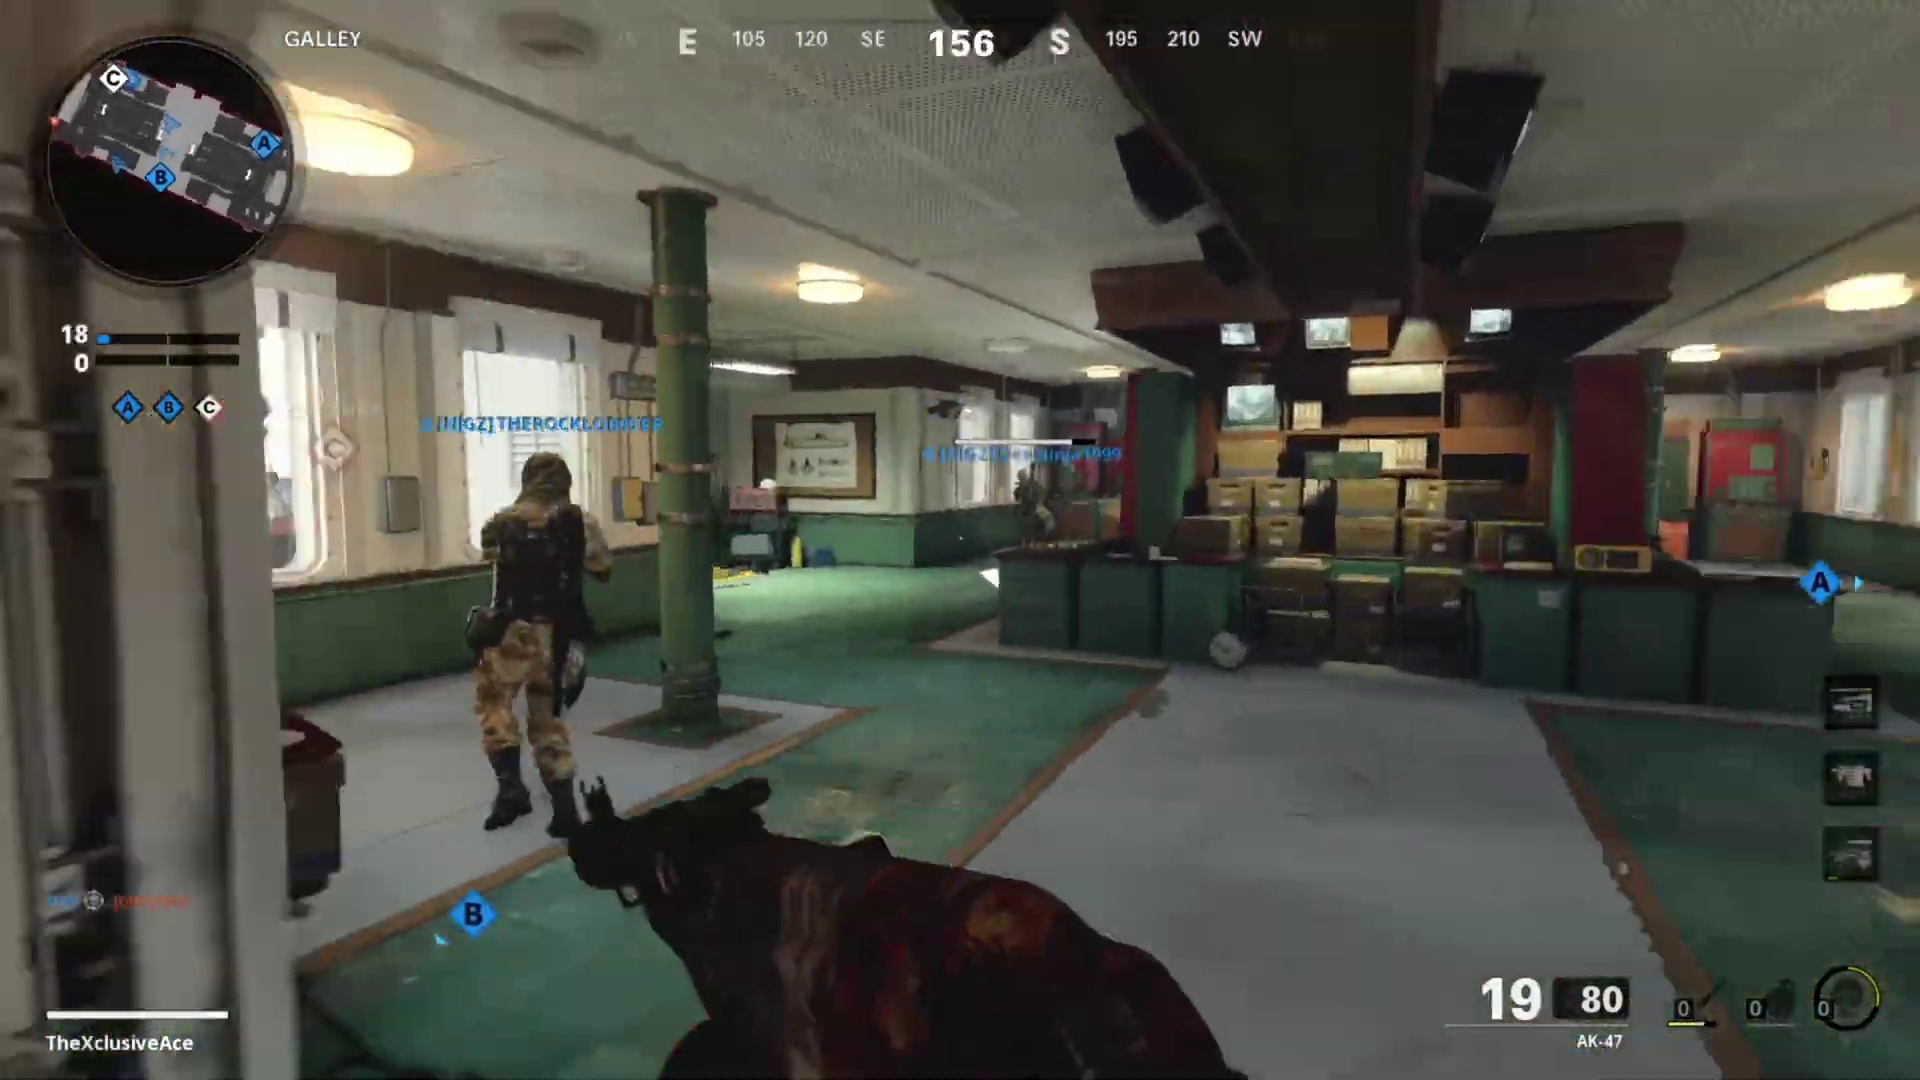head: (511, 454, 574, 514), (1011, 464, 1036, 486)
person: (467, 440, 599, 836), (1011, 465, 1059, 542)
